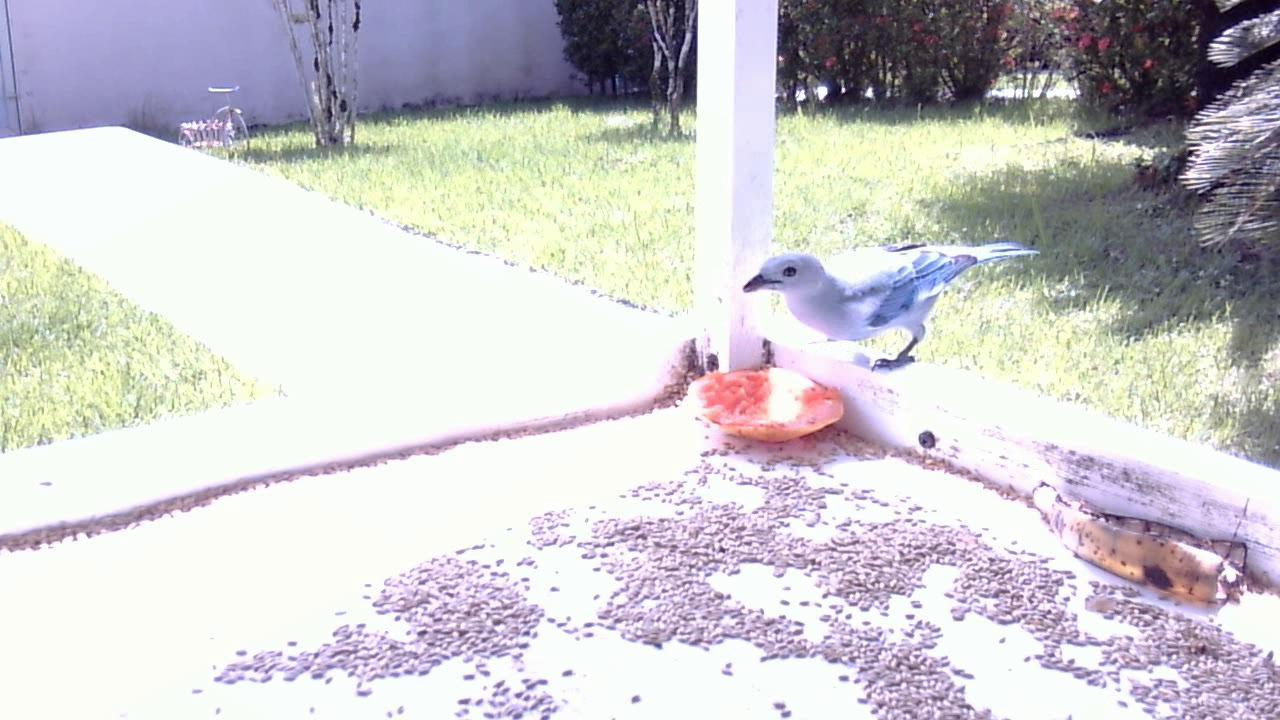sanhaco_da_amazonia: (748, 228, 1035, 381)
